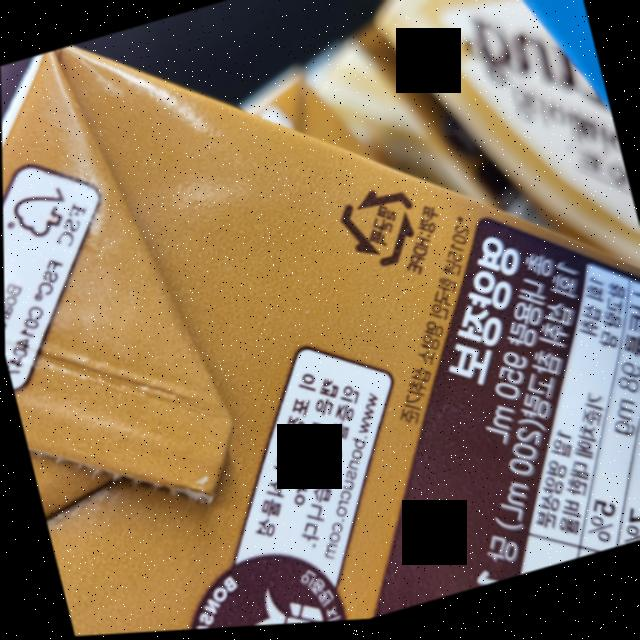SterilizedPack: (330, 173, 433, 281)
